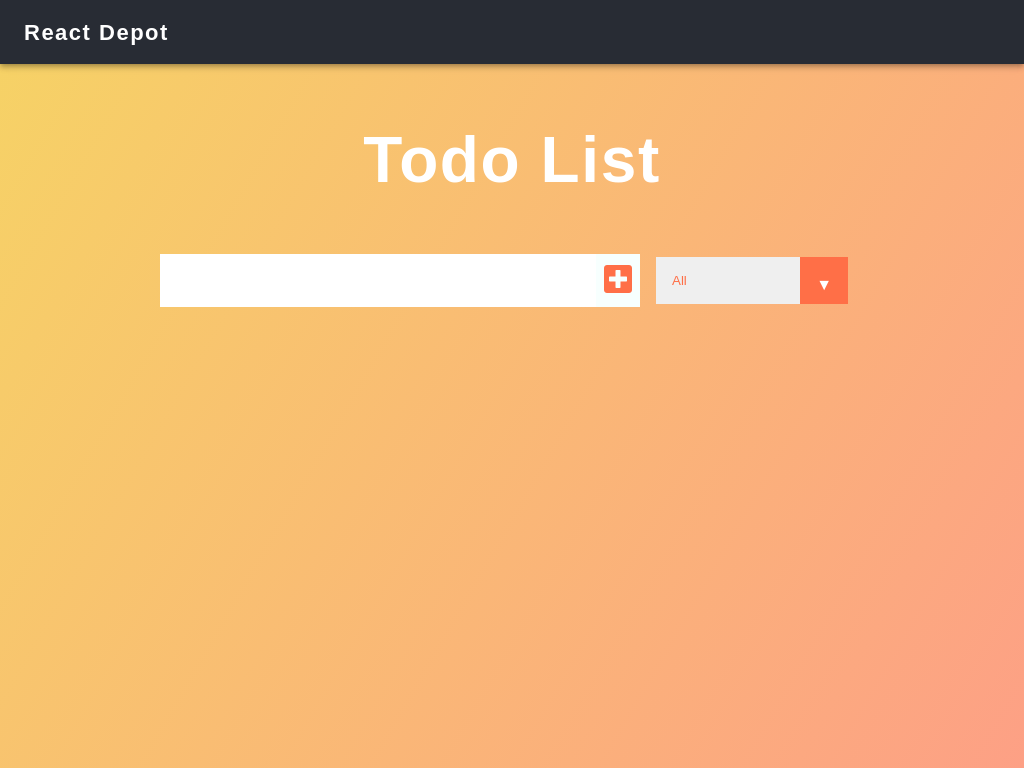
Fifth test suite › should add todos by clicking the Enter key
Type "Practice coding" into the field with test id "form-input" at (378, 281), box [160,254,596,307]
Then press Enter
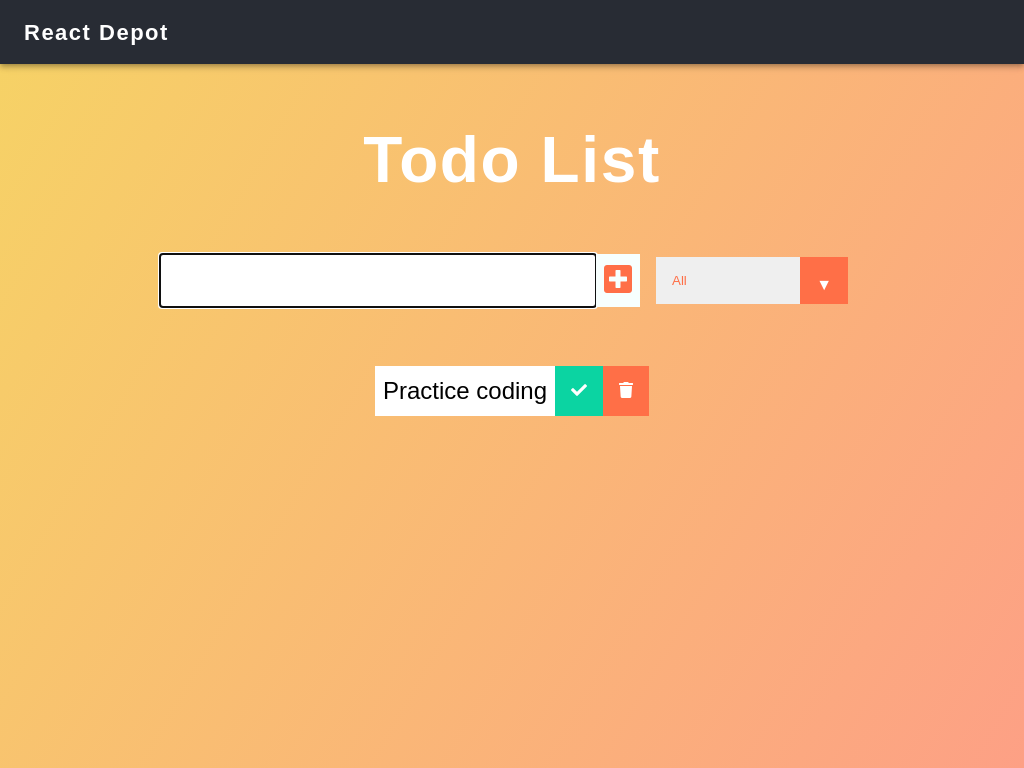
Type "Go to the store" into the field with test id "form-input" at (378, 281), box [160,254,596,307]
Then press Enter
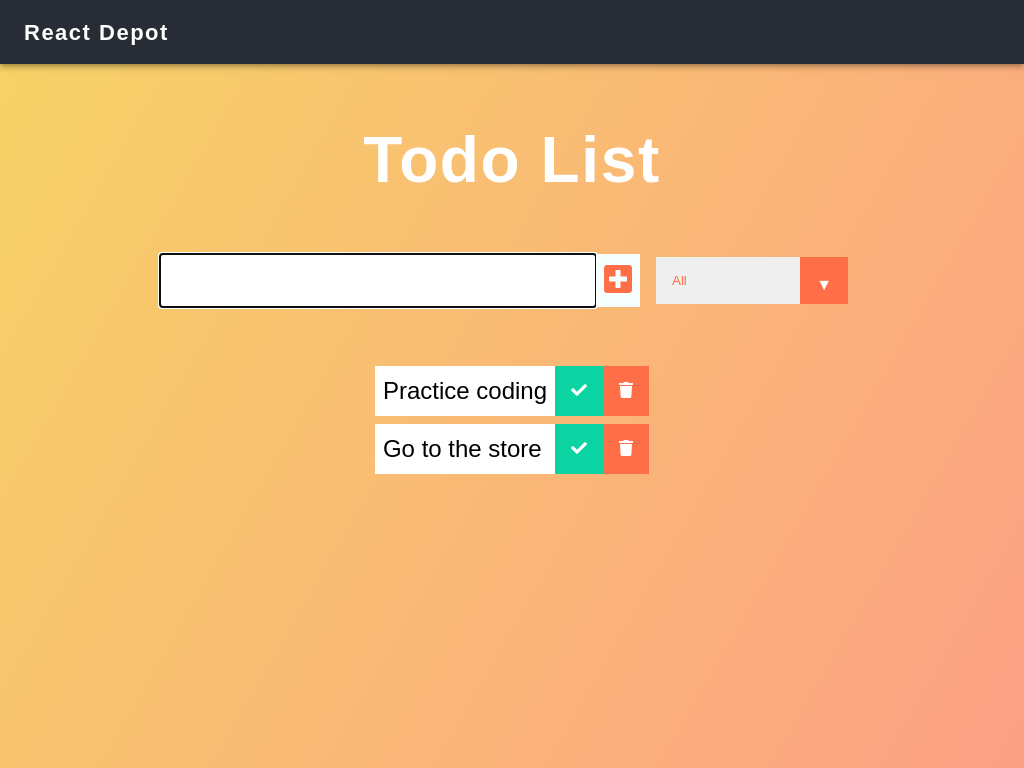
Type "Take a nap" into the field with test id "form-input" at (378, 281), box [160,254,596,307]
Then press Enter
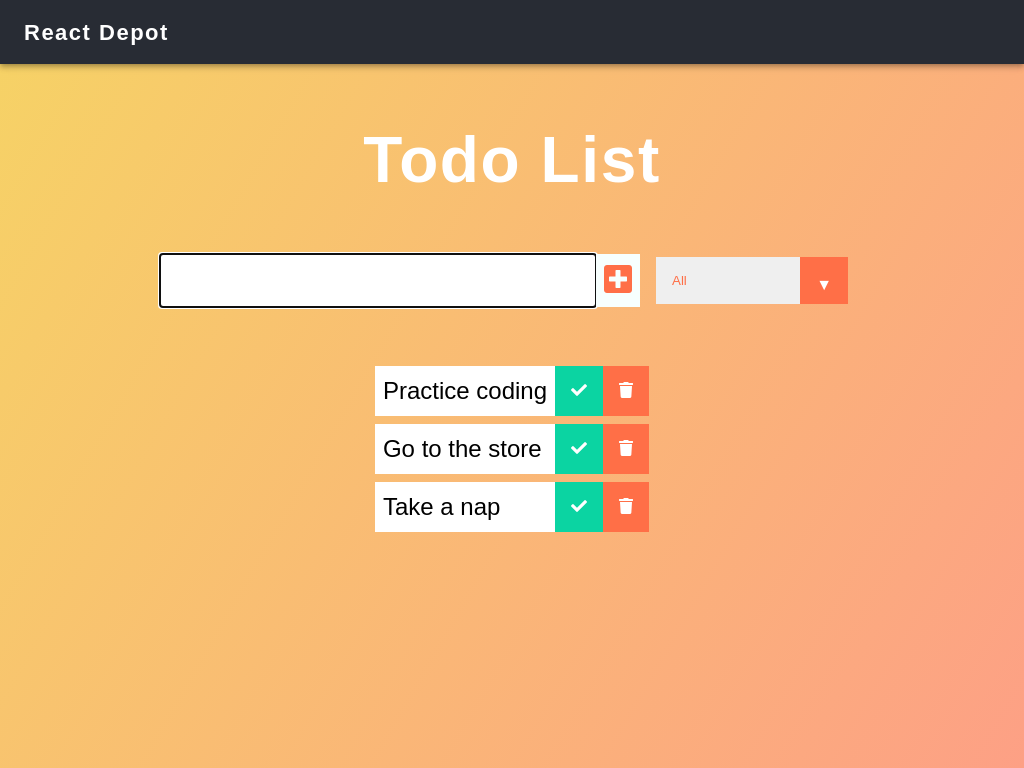
Expected: the list item with test id "todo-list" reads "Practice coding", [383,377,547,404]
Expected: the list item with test id "todo-list" reads "Go to the store", [383,435,542,462]
Expected: the list item with test id "todo-list" reads "Take a nap", [383,493,500,520]
